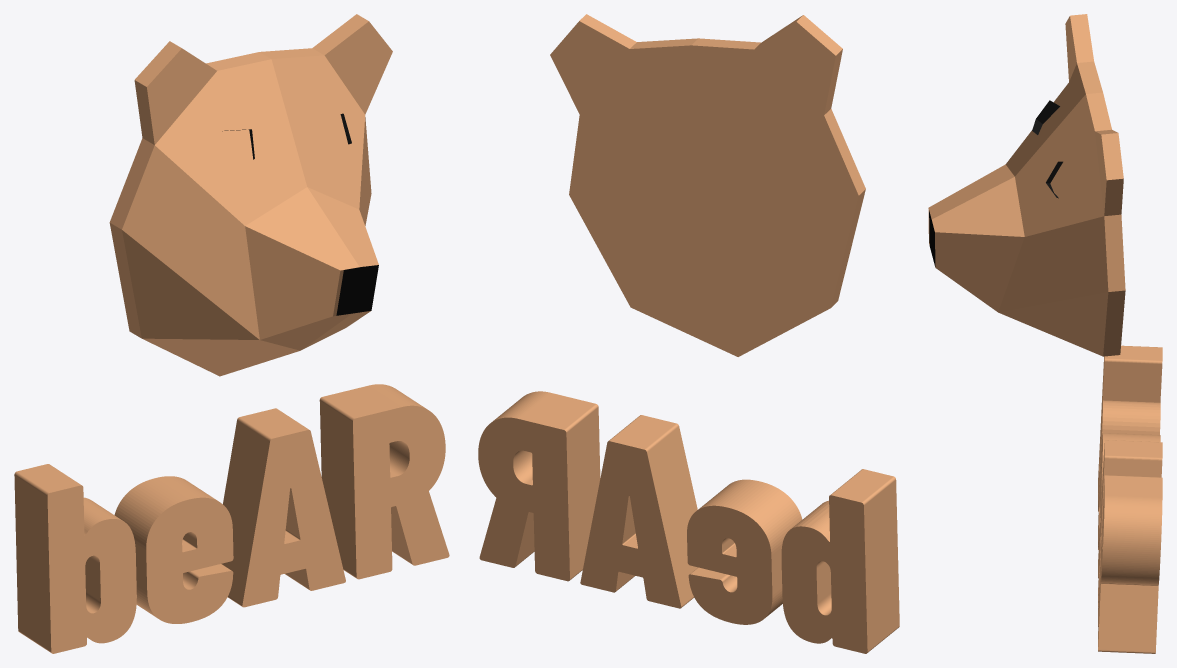
File: animated bear.glb
3 views of the same model, side by side, from view 1: azimuth 30°, elevation 25°; view 2: azimuth 150°, elevation 25°; view 3: azimuth 270°, elevation 25° (orthographic). The views are drawn at different scales.
Parts seen in each view (by area): view 1: Plane.007, Text, Plane.005; view 2: Plane.007, Text; view 3: Plane.007, Text, Plane.006.
Part boxes in pixels (box(x1,y1,x2,y2)): Plane.007: box(109, 14, 392, 376); Text: box(14, 384, 449, 653); Plane.005: box(336, 265, 378, 315); Plane.007: box(550, 14, 865, 356); Text: box(478, 391, 899, 653); Plane.007: box(928, 14, 1125, 356); Text: box(1098, 345, 1162, 653); Plane.006: box(1032, 100, 1062, 198).
Bounding box in the file's own units: 88.98 × 127 × 51.8.
